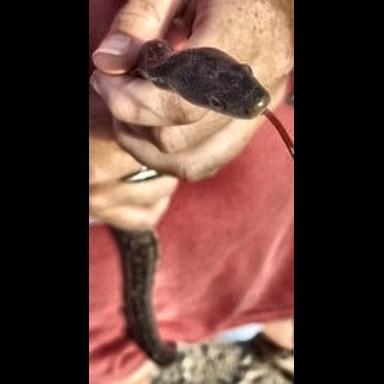snake: (129, 40, 293, 156), (108, 227, 175, 366)
